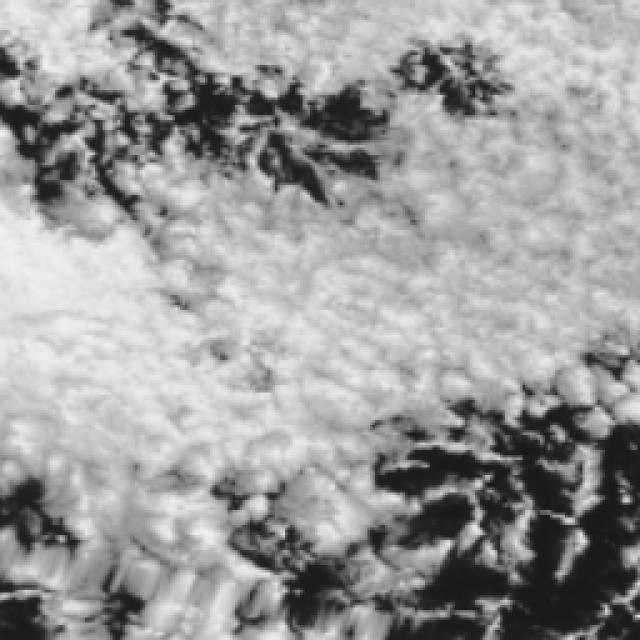CB: (0, 260, 138, 439)
